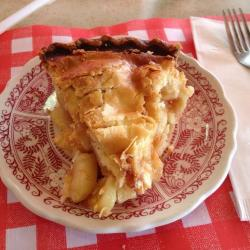apple_pie: (34, 32, 190, 202)
